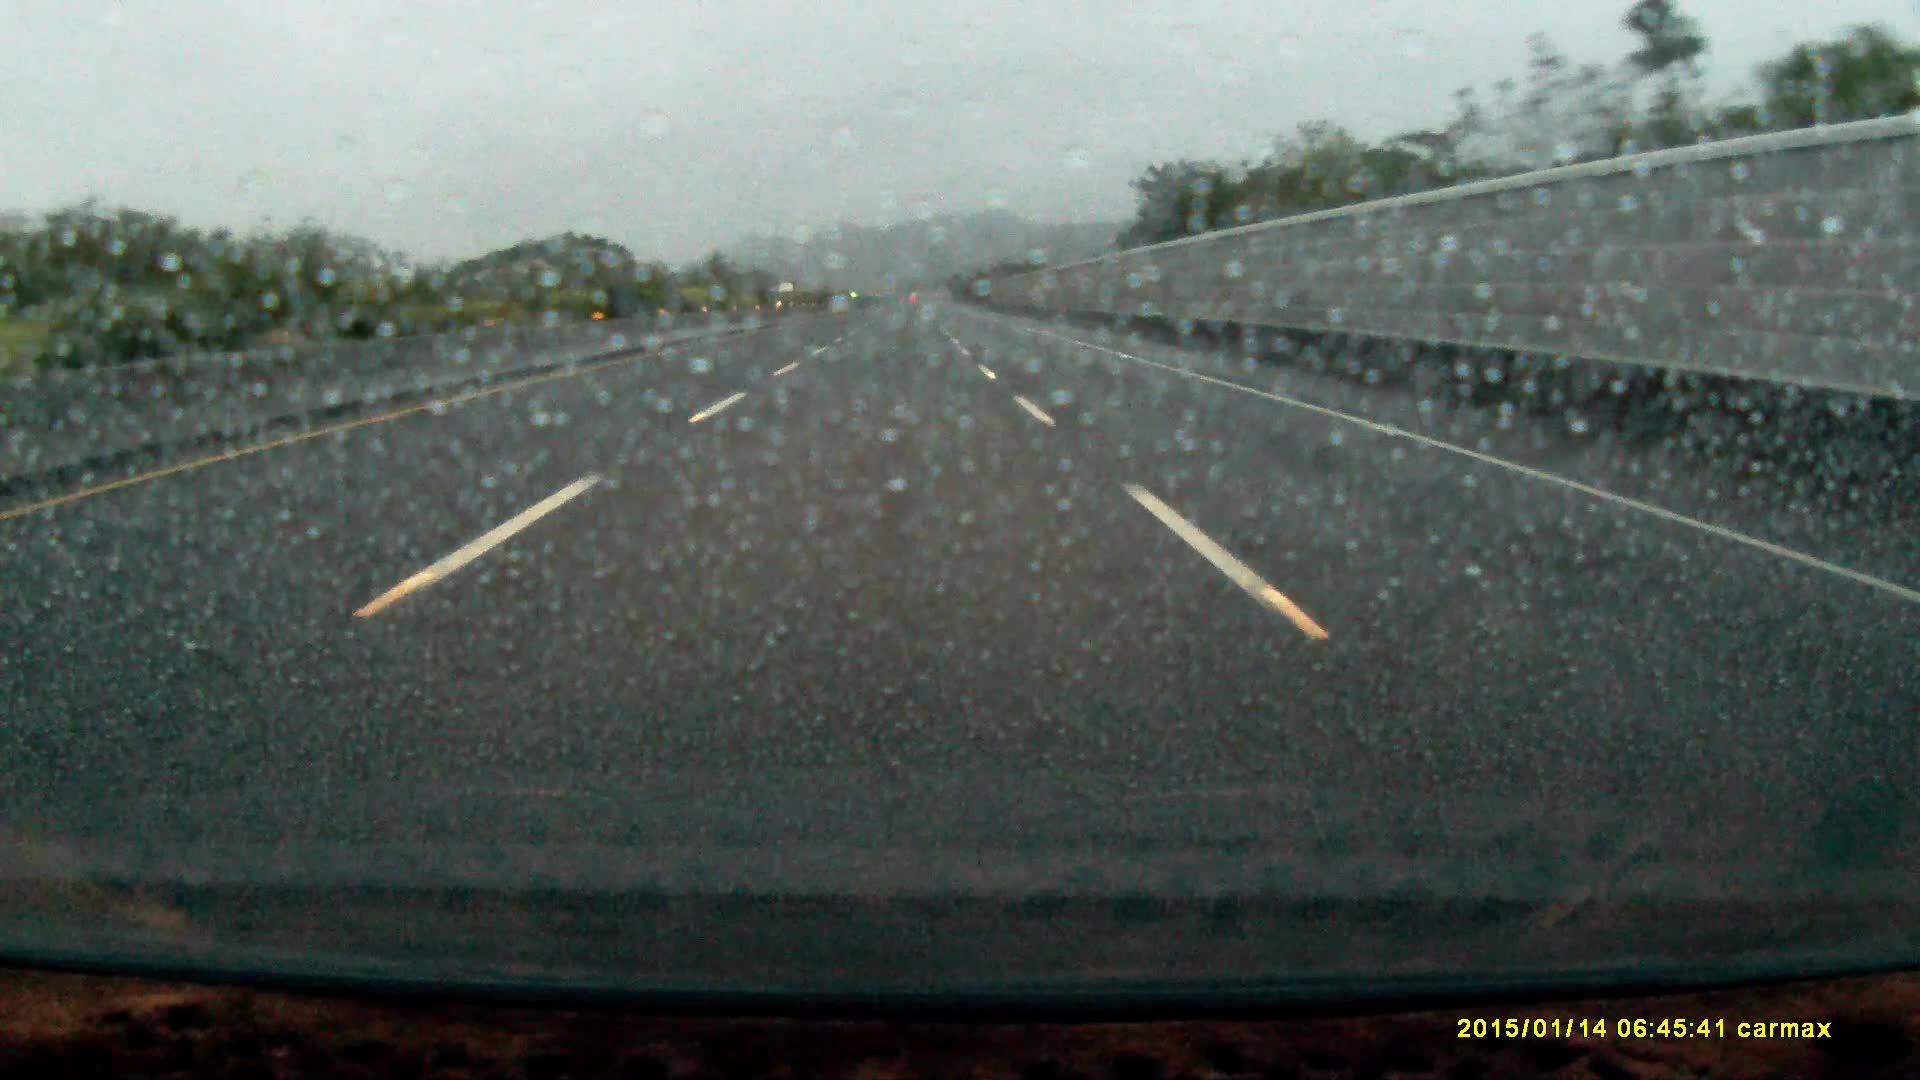vehicle: (777, 281, 803, 307)
